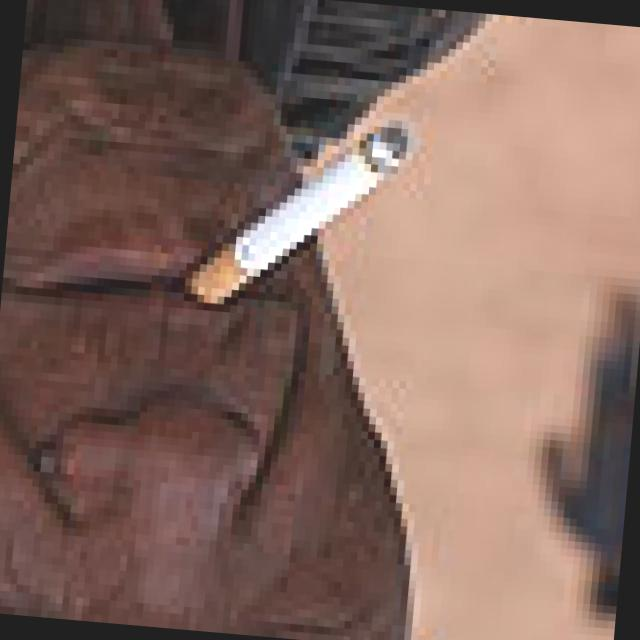smoke: (206, 110, 415, 333)
